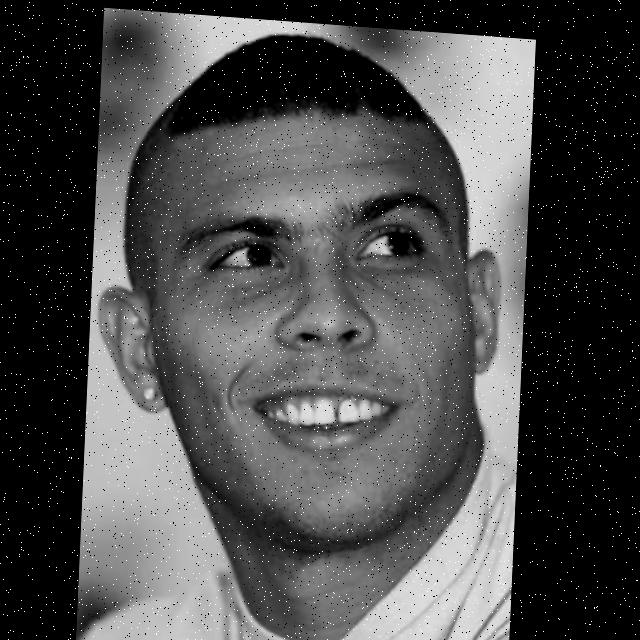face: (107, 17, 493, 570)
